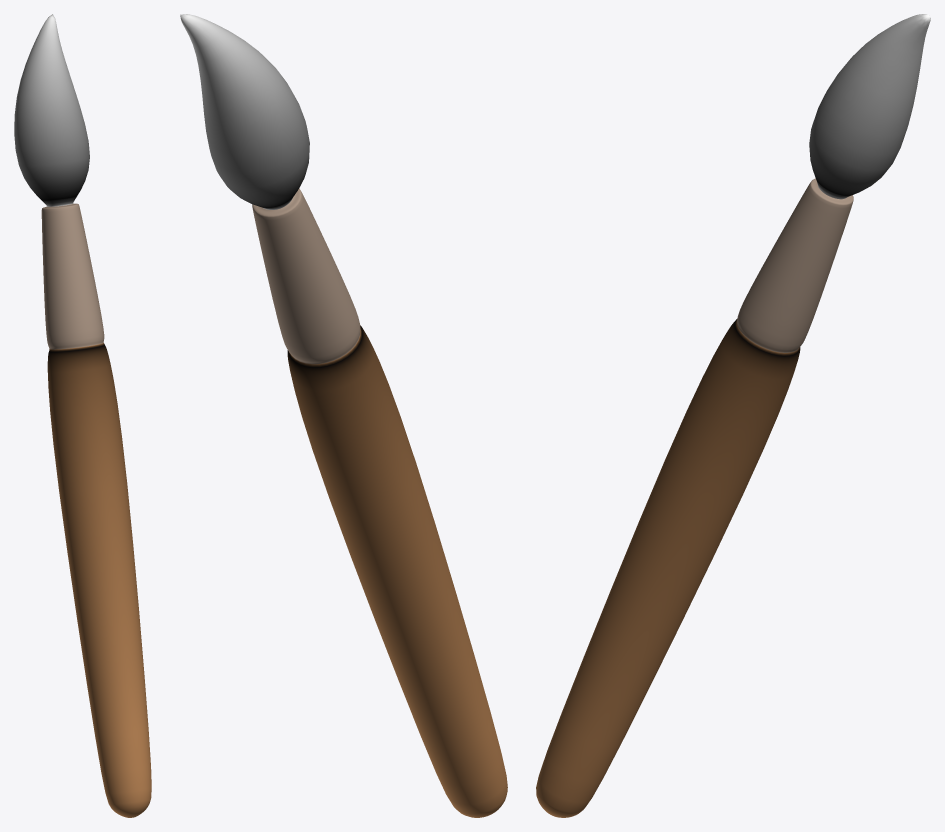
Rendered from Brush01.fbx.
3 renders of one model, left to right at view 1: azimuth 30°, elevation 25°; view 2: azimuth 150°, elevation 25°; view 3: azimuth 270°, elevation 25°, orthographic. The views are drawn at different scales.
Parts seen in each view (by area): view 1: Art Supplies - Brushes.005, Art Supplies - Brushes.002; view 2: Art Supplies - Brushes.005, Art Supplies - Brushes.002; view 3: Art Supplies - Brushes.005, Art Supplies - Brushes.002.
Part boxes in pixels (left/top/right/bottom): Art Supplies - Brushes.005: left=41, top=203, right=151, bottom=817; Art Supplies - Brushes.002: left=14, top=14, right=89, bottom=206; Art Supplies - Brushes.005: left=252, top=188, right=507, bottom=817; Art Supplies - Brushes.002: left=180, top=14, right=309, bottom=209; Art Supplies - Brushes.005: left=536, top=178, right=853, bottom=817; Art Supplies - Brushes.002: left=809, top=14, right=930, bottom=199.
Size of the model in its own units: 3.41 by 23.61 by 10.02.
